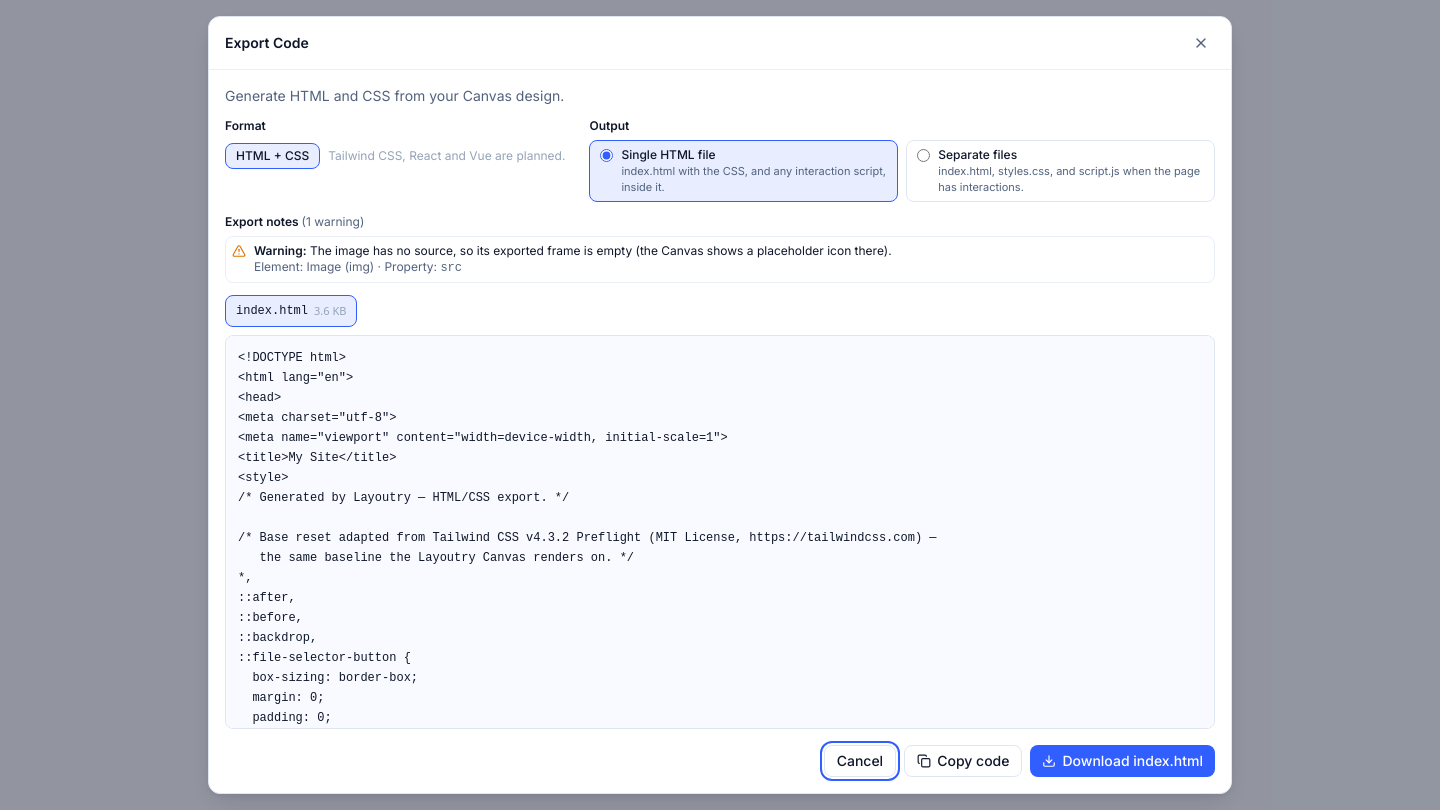
Test: ExportCodeDialog — copy and browser downloads › says so when copying fails
Click the button "Copy code" at {"x": 963, "y": 761}, box [904, 745, 1022, 777]
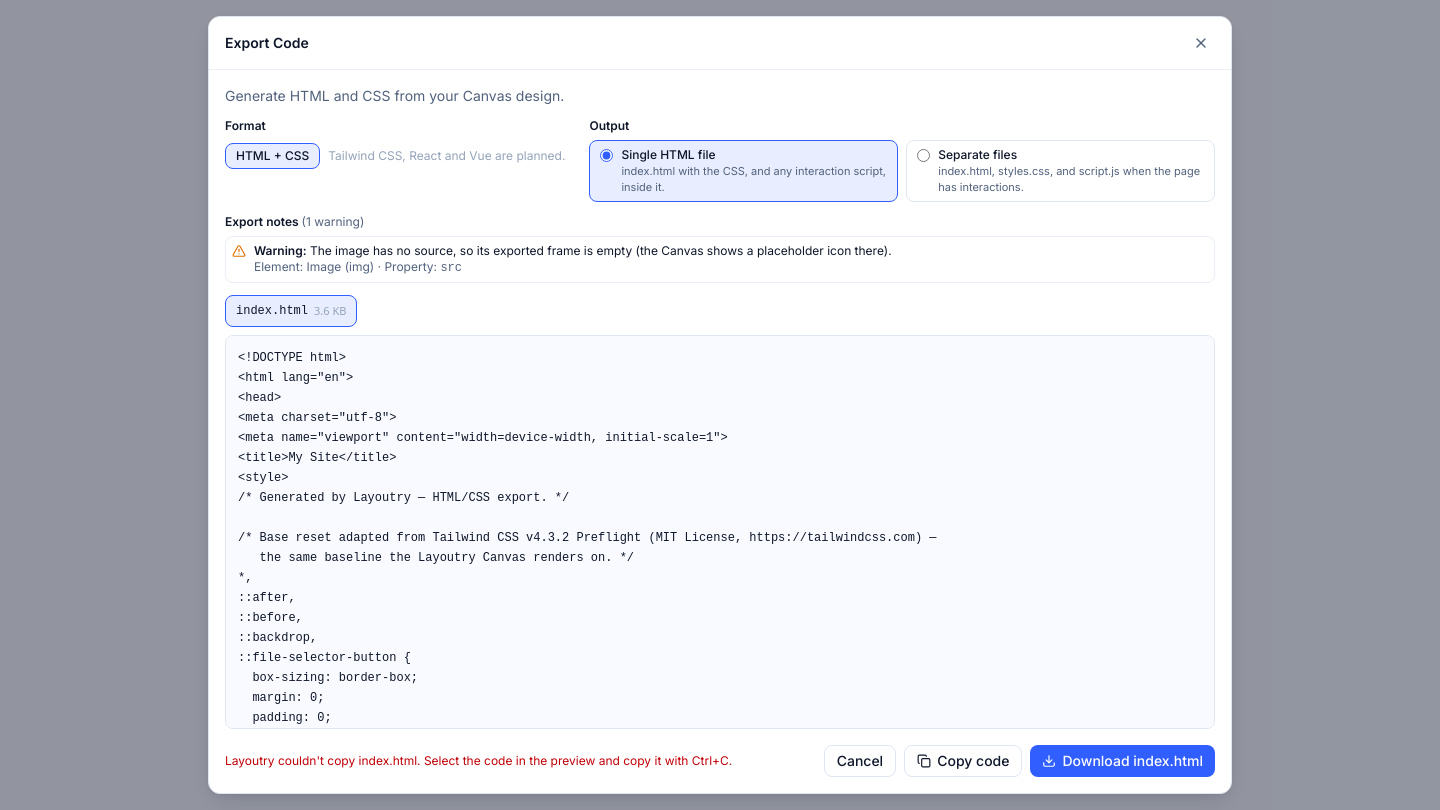
Expected: the message shows "couldn't copy index.html", [225, 753, 732, 768]
